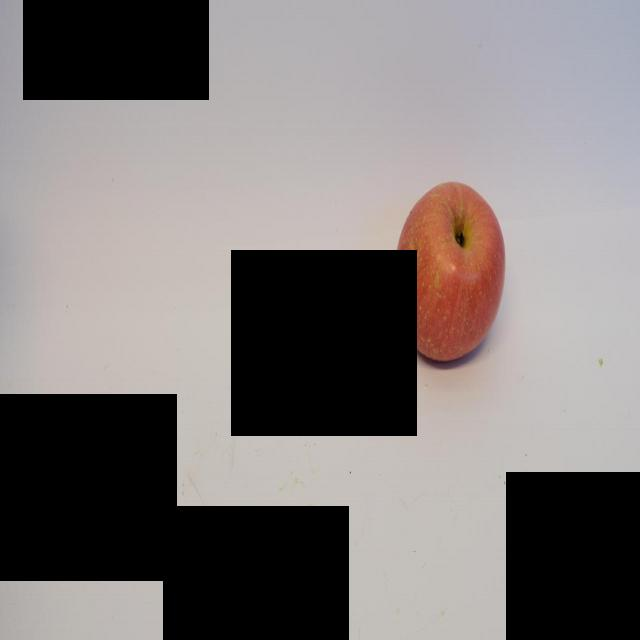apple: (392, 173, 508, 366)
